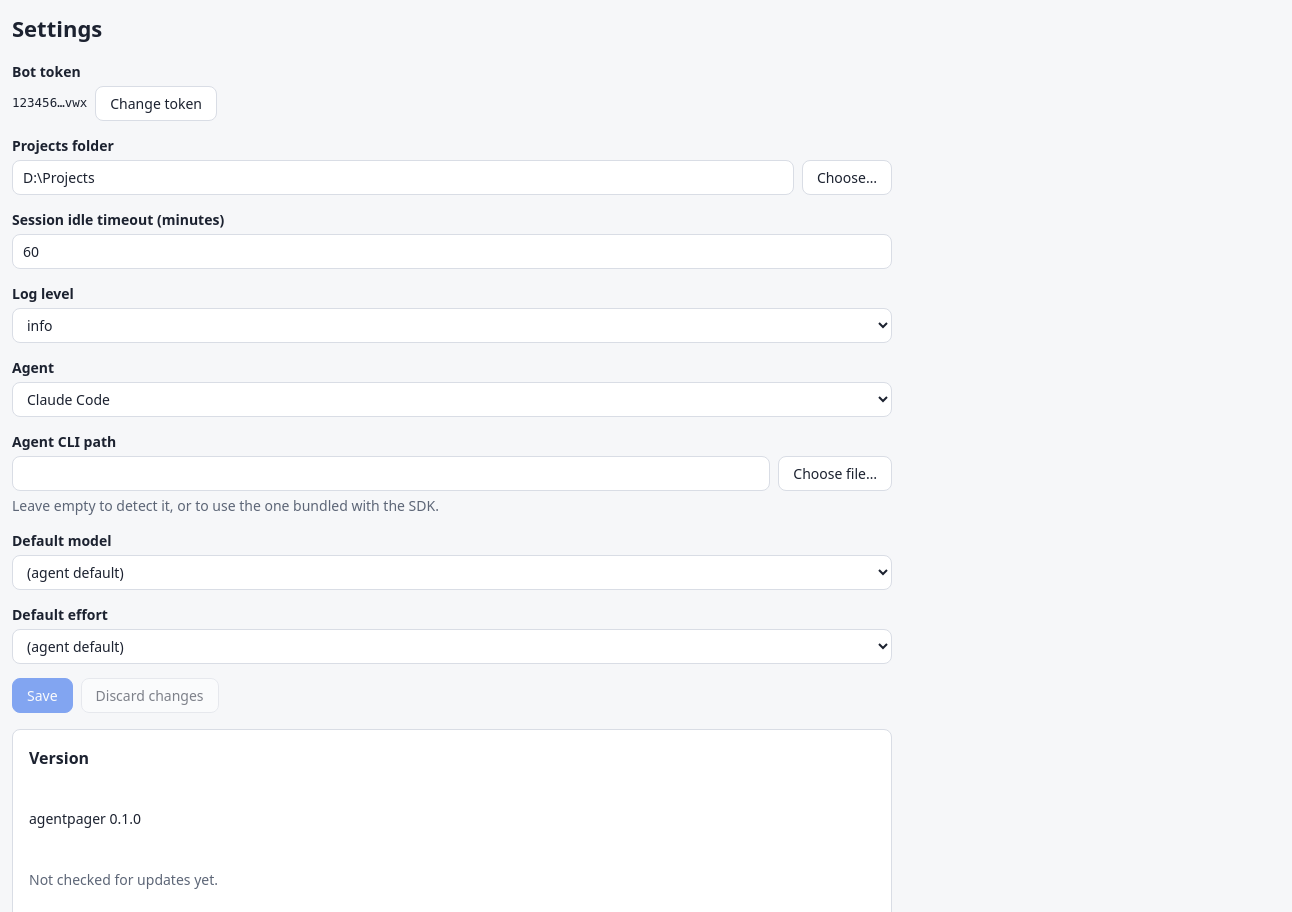
SettingsScreen › asks for a restart when the bot runs with the old settings
Select "debug" in the dropdown labelled "Log level" at (452, 326), box [12,308,892,343]
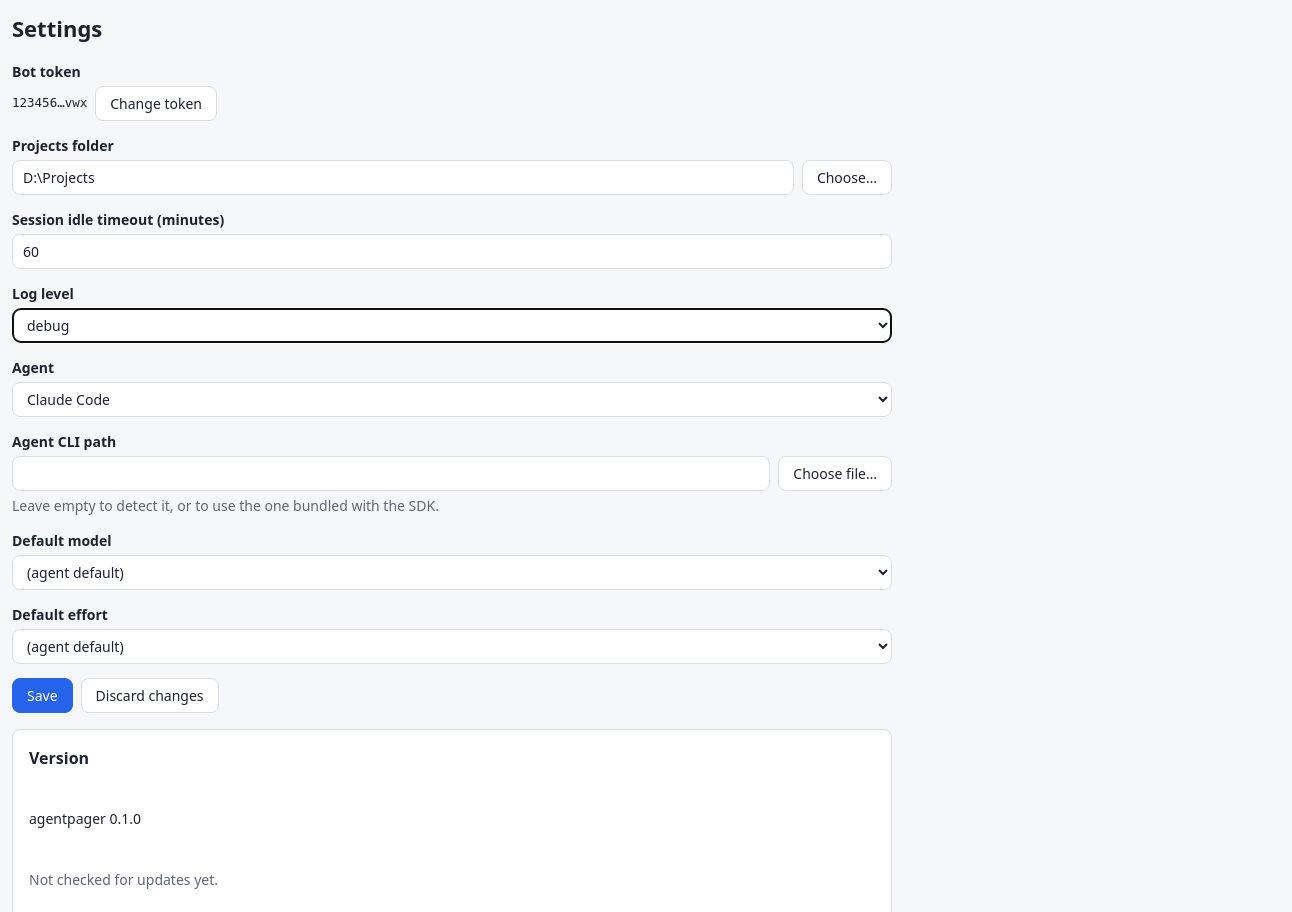
Click the button "Save".
click(42, 696)  # box [12,678,73,713]
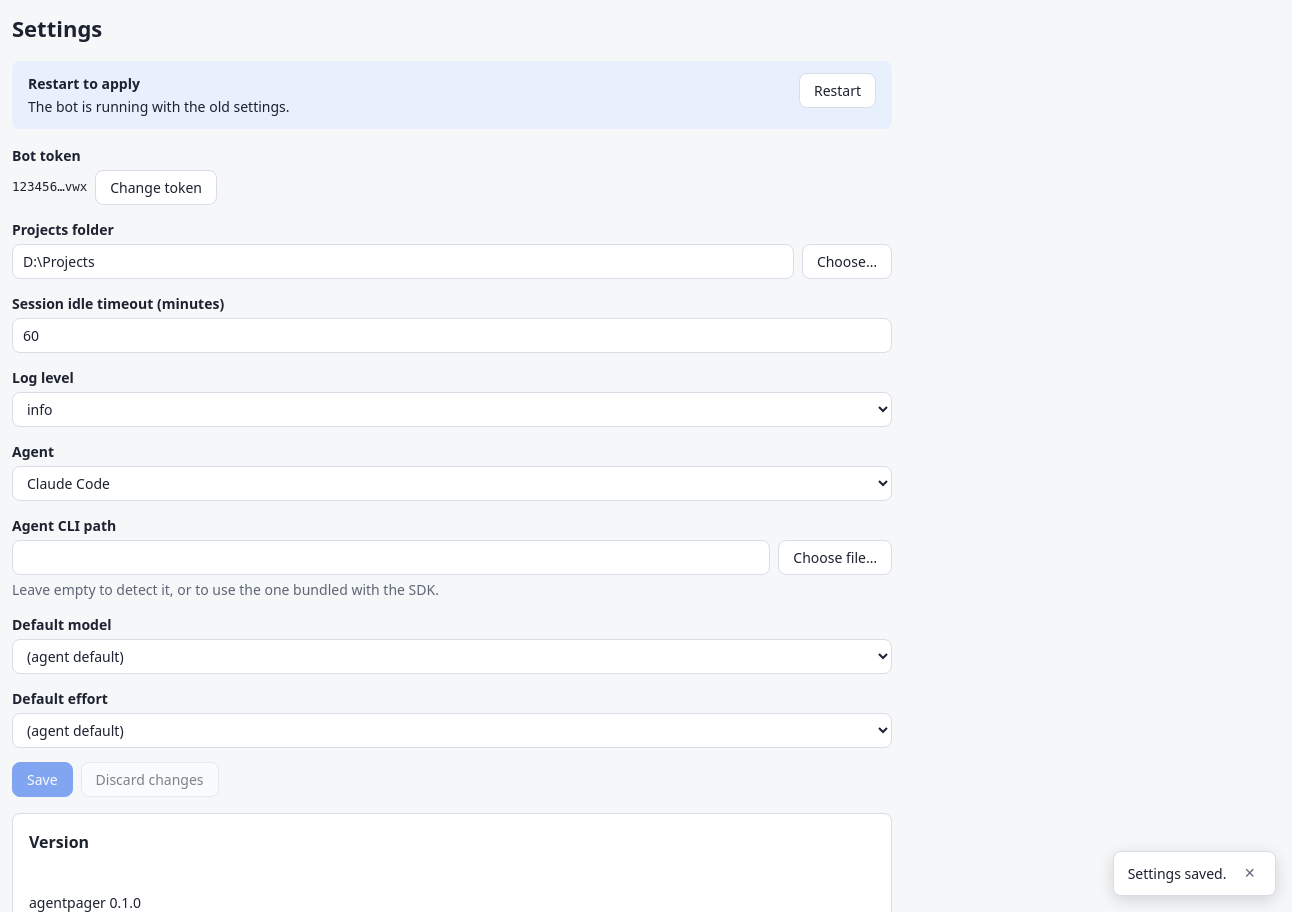
expect the text "Restart to apply" is shown: met, box [28,74,140,93]
Click the button "Restart".
click(837, 90)  # box [799,73,876,108]
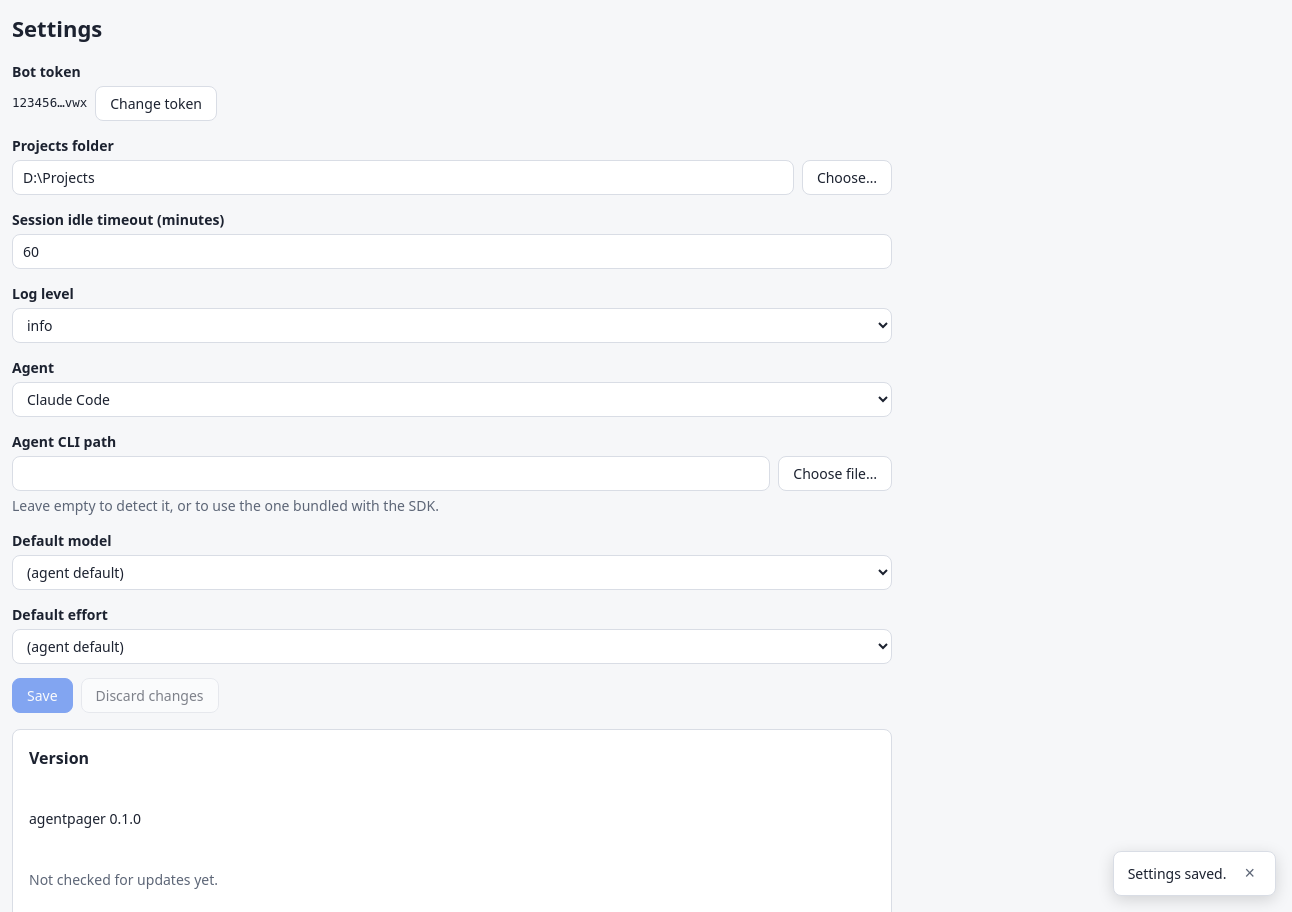
expect the text "Restart to apply" is gone: met
